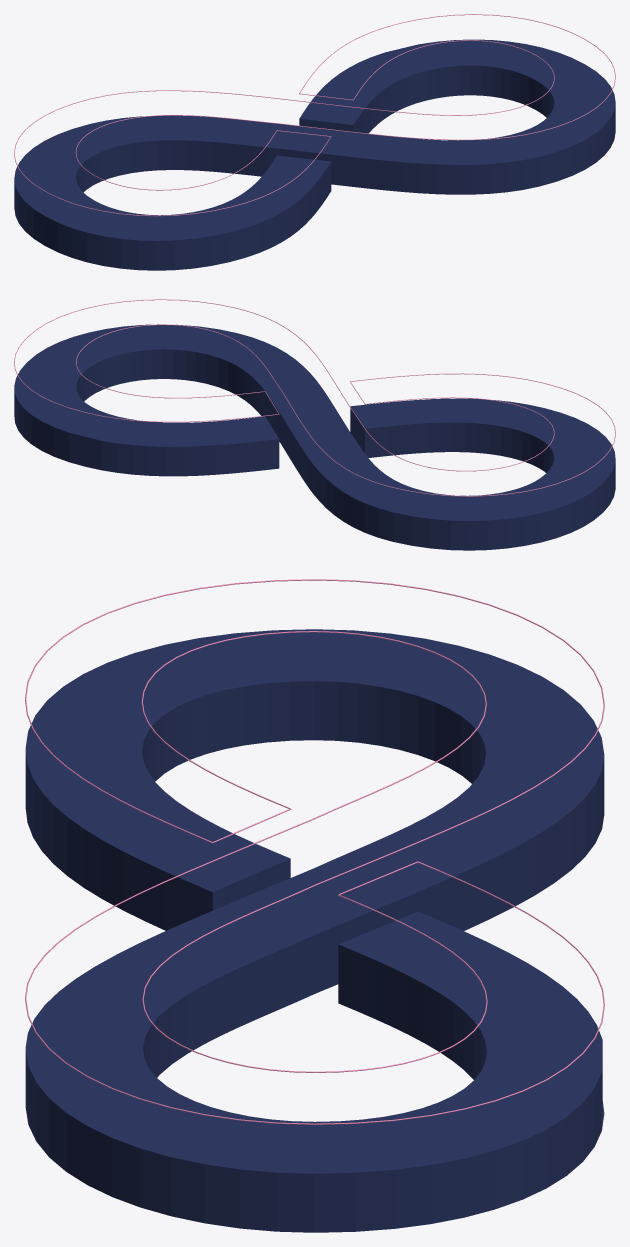
File: Infinity10.gltf
3 views of the same model, one above another, from view 1: azimuth 30°, elevation 25°; view 2: azimuth 150°, elevation 25°; view 3: azimuth 270°, elevation 25° (orthographic). The views are drawn at different scales.
Parts seen in each view (by area): view 1: Curve, Curve.001; view 2: Curve, Curve.001; view 3: Curve, Curve.001.
Boxes of the visible parts, x1,y1,x2,y2 form: Curve: (14, 39, 615, 270); Curve.001: (14, 14, 615, 216); Curve: (14, 324, 615, 550); Curve.001: (14, 299, 615, 496); Curve: (25, 629, 604, 1232); Curve.001: (25, 579, 604, 1124).
Size of the model in its own units: 8.87 by 0.8285 by 3.99.
